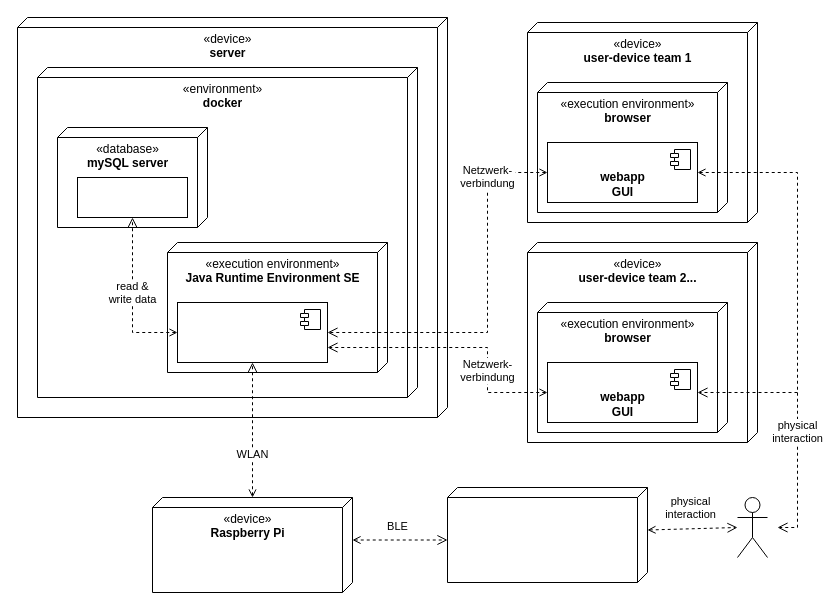
This 840x610 diagram has some shape labels left out. The shapes that lost their labels are listed below. From the top down, each one's centre as x and y in pixels, then its label:
At point 132,197: "database".
At point 252,332: "webapp".
At point 547,534: "«device» TimeFlip".
At point 752,527: "Actor".
